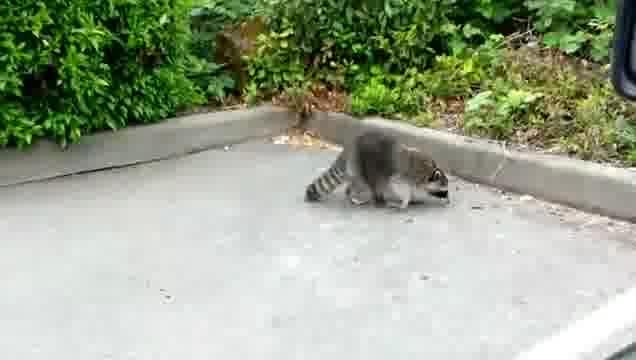raccoon: (306, 132, 451, 211)
